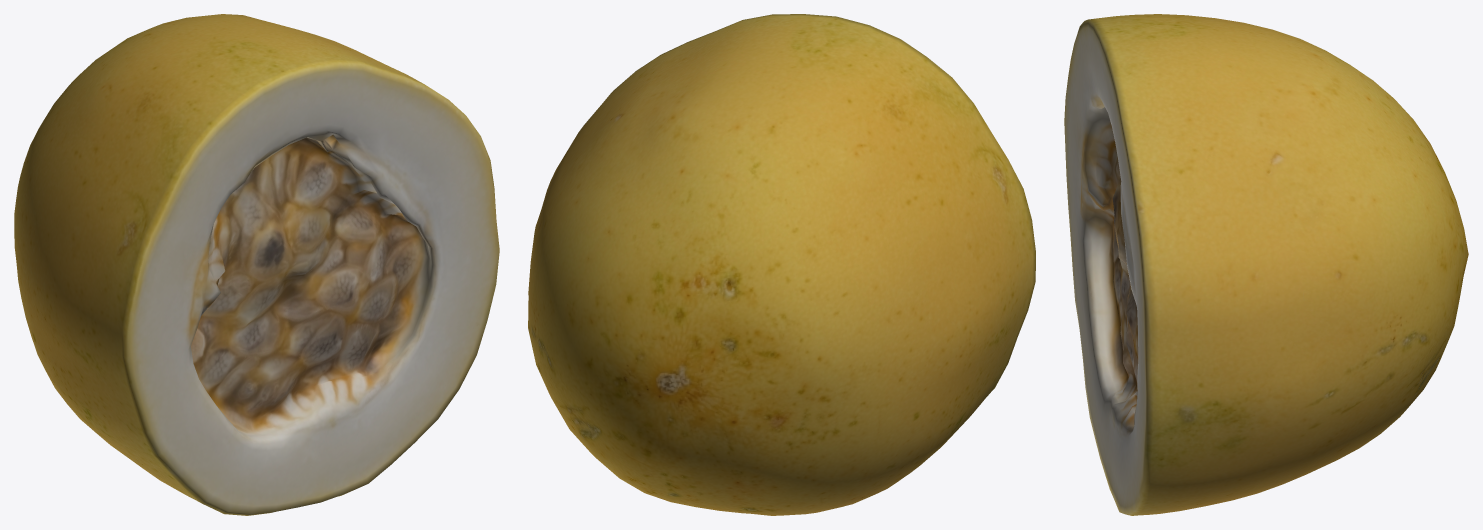
File: kiri_fruit_passion.gltf
3 views of the same model, side by side, from view 1: azimuth 30°, elevation 25°; view 2: azimuth 150°, elevation 25°; view 3: azimuth 270°, elevation 25° (orthographic). The views are drawn at different scales.
Parts seen in each view (by area): view 1: A27_Passion_Fruit; view 2: A27_Passion_Fruit; view 3: A27_Passion_Fruit.
Boxes of the visible parts, <box> form: A27_Passion_Fruit: <box>14,14,499,515</box>; A27_Passion_Fruit: <box>528,14,1035,515</box>; A27_Passion_Fruit: <box>1064,14,1468,515</box>.
Size of the model in its own units: 0.0509 by 0.0513 by 0.0425.
1 material, 1 textured.
